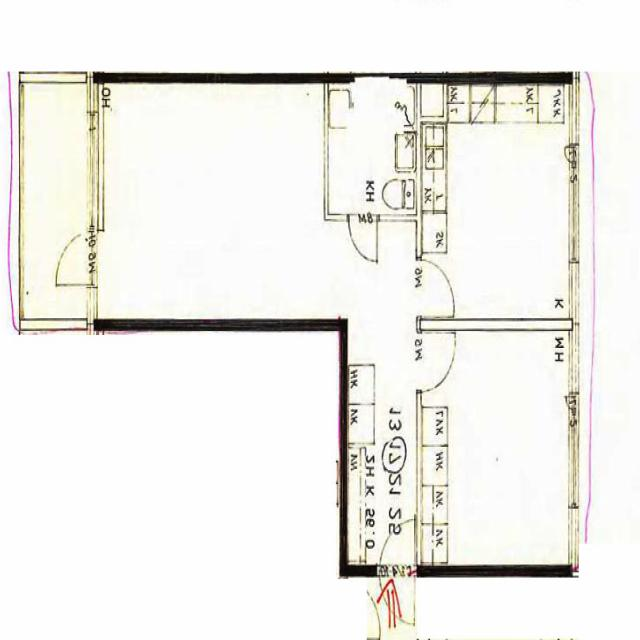door: (417, 334, 463, 393), (417, 260, 460, 316), (56, 231, 98, 285), (380, 565, 415, 628), (380, 514, 415, 577), (350, 214, 378, 263)
